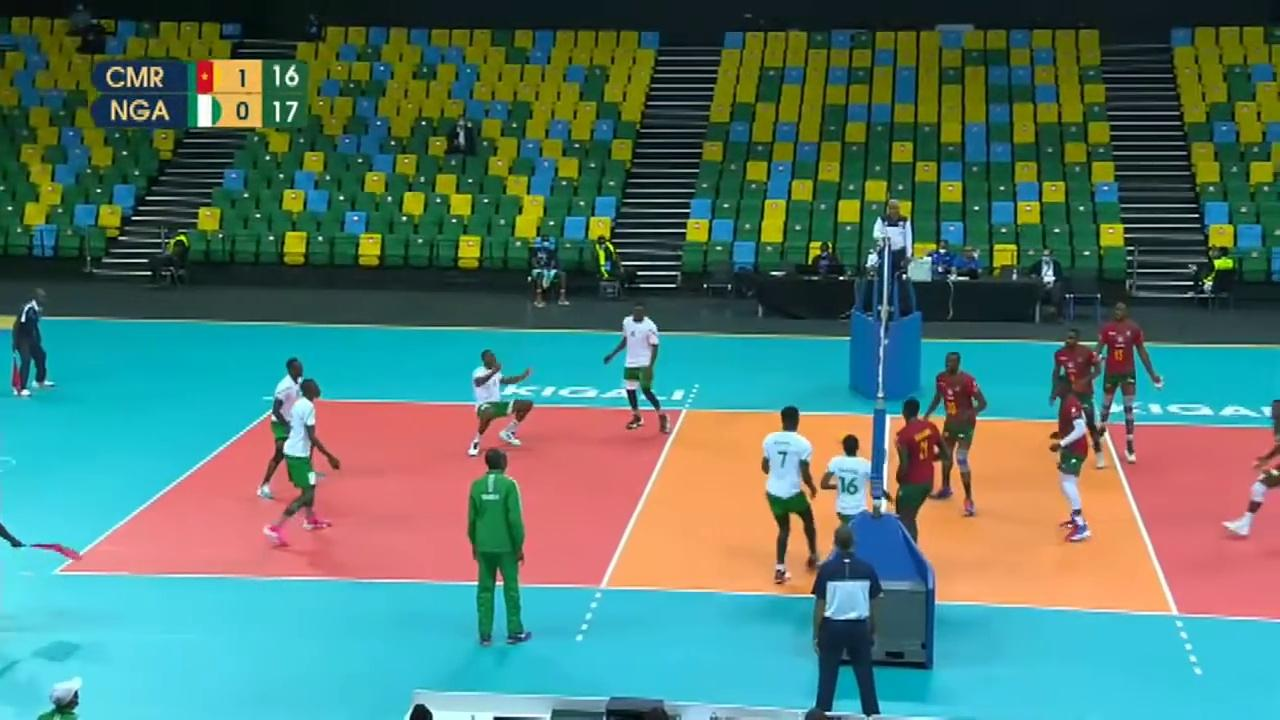player: (1093, 303, 1163, 466), (760, 407, 824, 580), (266, 380, 330, 548), (932, 354, 987, 518), (824, 434, 887, 574), (1048, 326, 1105, 471), (1045, 379, 1093, 543), (894, 399, 946, 548), (603, 306, 666, 428), (1226, 399, 1280, 541), (261, 358, 314, 497), (470, 353, 535, 455)
refree: (804, 526, 891, 714), (873, 197, 912, 309), (13, 289, 52, 394)
